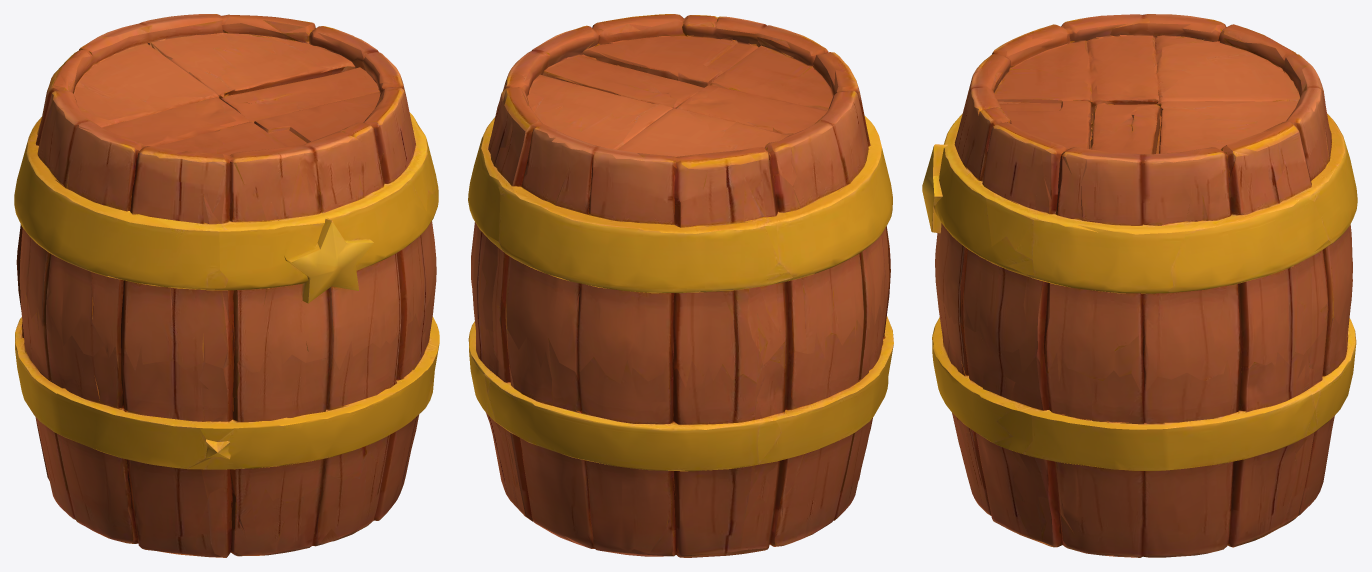
The model's file is barrel.glb.
3 views of the same model, side by side, from view 1: azimuth 30°, elevation 25°; view 2: azimuth 150°, elevation 25°; view 3: azimuth 270°, elevation 25° (orthographic).
Size of the model in its own units: 1.85 by 1.9 by 1.88.
Materials: 1 (1 with a texture image).
